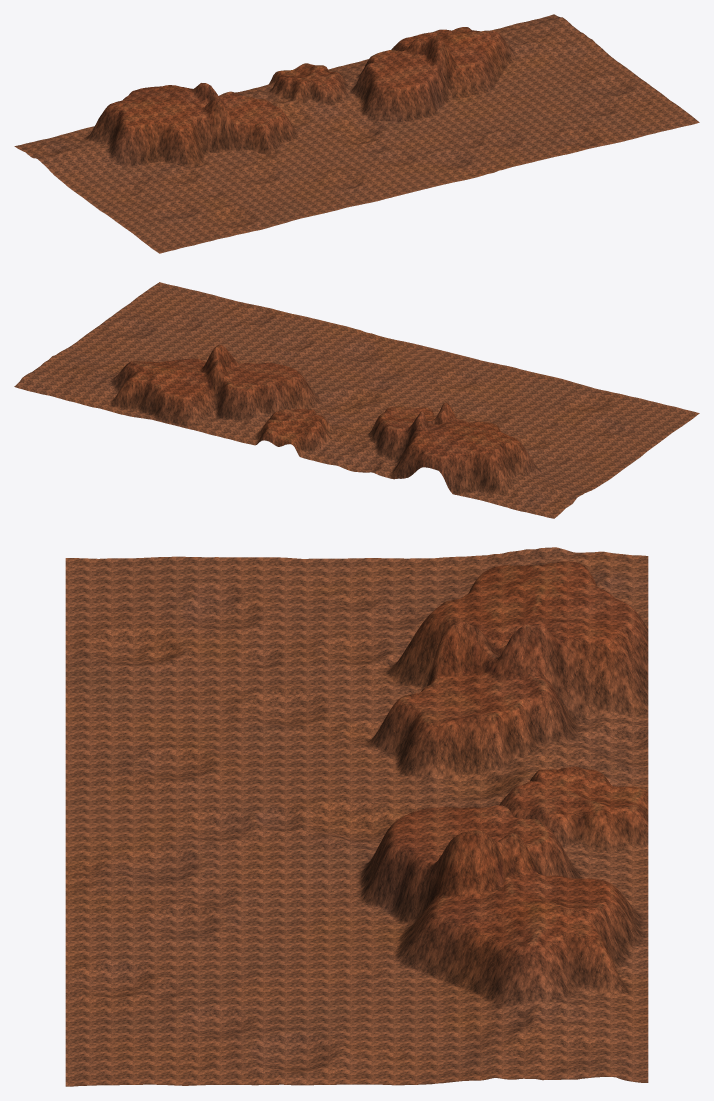
File: mars_ground.glb
3 views of the same model, one above another, from view 1: azimuth 30°, elevation 25°; view 2: azimuth 150°, elevation 25°; view 3: azimuth 270°, elevation 25° (orthographic). The views are drawn at different scales.
Parts seen in each view (by area): view 1: MarsGround; view 2: MarsGround; view 3: MarsGround.
Boxes of the visible parts, x1,y1,x2,y2 form: MarsGround: (14,14,699,253); MarsGround: (14,282,699,518); MarsGround: (65,547,648,1086).
Size of the model in its own units: 690 by 64.12 by 322.
1 material, 1 textured.
